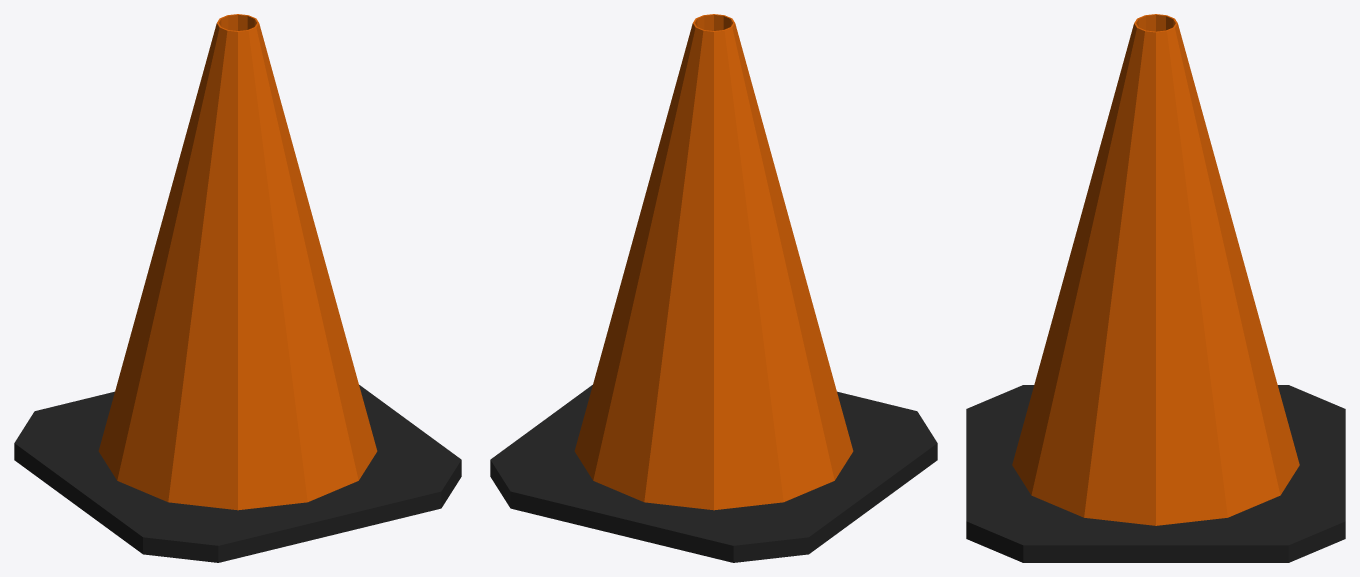
The picture shows the model from 3 angles, left to right: view 1: azimuth 30°, elevation 25°; view 2: azimuth 150°, elevation 25°; view 3: azimuth 270°, elevation 25°; orthographic projection. The views are drawn at different scales.
Parts seen in each view (by area): view 1: Cone; view 2: Cone; view 3: Cone.
Boxes of the visible parts, x1,y1,x2,y2 form: Cone: [14, 14, 461, 562]; Cone: [490, 14, 937, 562]; Cone: [966, 14, 1345, 562].
Size of the model in its own units: 0.5897 by 0.7882 by 0.5897.
